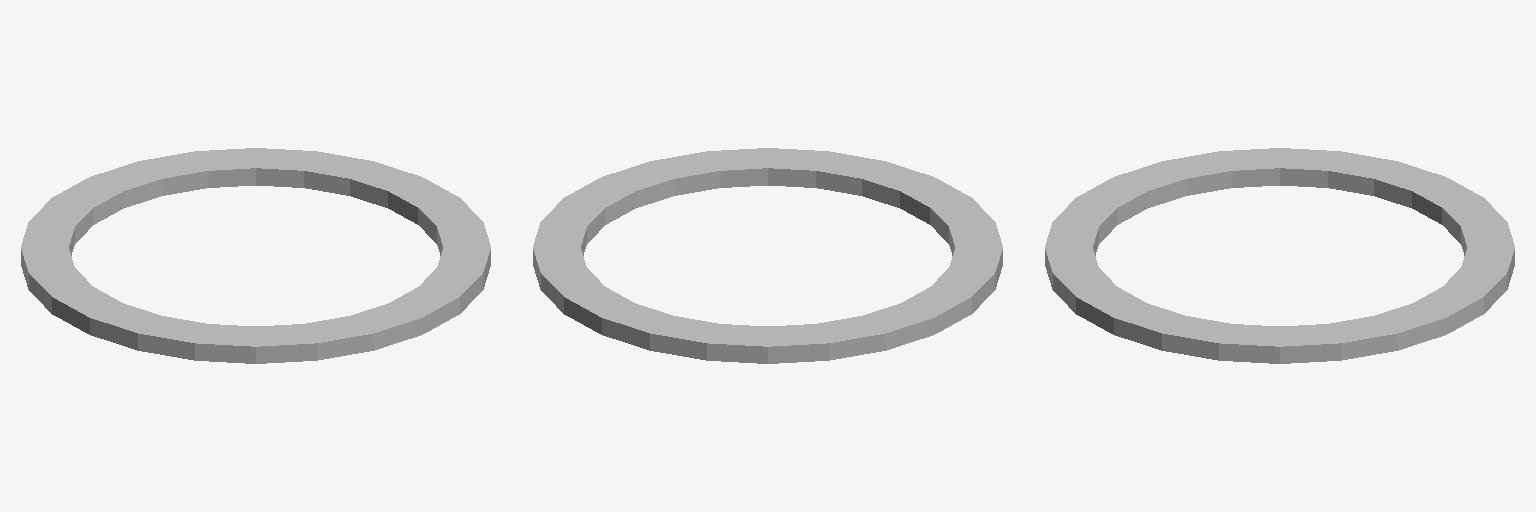
Rendered from transport_rings.obj.
3 renders of one model, left to right at view 1: azimuth 30°, elevation 25°; view 2: azimuth 150°, elevation 25°; view 3: azimuth 270°, elevation 25°, orthographic.
Visible parts, largest first — view 1: Tube002; view 2: Tube002; view 3: Tube002.
Boxes of the visible parts, box(x1,y1,x2,y2) form: Tube002: box(21, 148, 490, 363); Tube002: box(533, 148, 1002, 363); Tube002: box(1045, 148, 1514, 363).
Bounding box in the file's own units: 4.93 × 0.2 × 4.93.